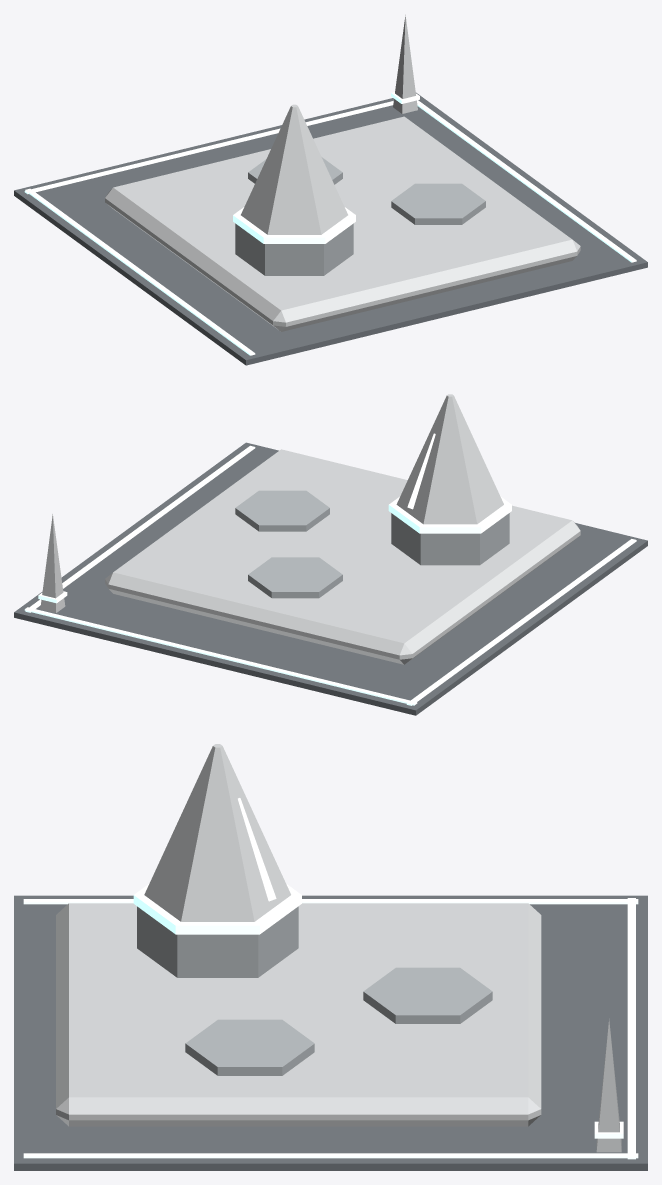
File: zone_low_1_t1.glb
The picture shows the model from 3 angles, top to bottom: view 1: azimuth 30°, elevation 25°; view 2: azimuth 150°, elevation 25°; view 3: azimuth 270°, elevation 25°; orthographic projection. The views are drawn at different scales.
Parts seen in each view (by area): view 1: zone_low_1_t1, detail; view 2: zone_low_1_t1, detail; view 3: zone_low_1_t1, detail.
Boxes of the visible parts, box(x1,y1,x2,y2) form: zone_low_1_t1: box(14, 92, 647, 365); detail: box(24, 15, 636, 355); zone_low_1_t1: box(14, 394, 647, 715); detail: box(24, 445, 636, 705); zone_low_1_t1: box(14, 744, 647, 1170); detail: box(23, 898, 638, 1159).
Bounding box in the file's own units: 19.6 × 8.16 × 19.6.
